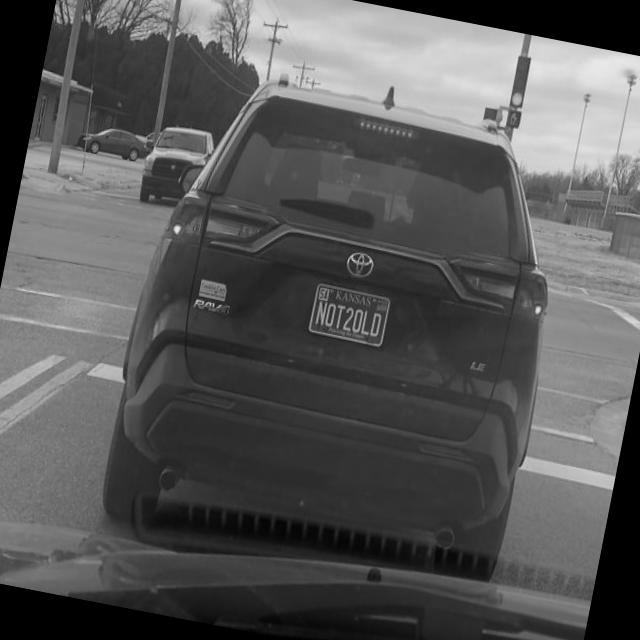LicensePlate: (308, 282, 392, 347)
